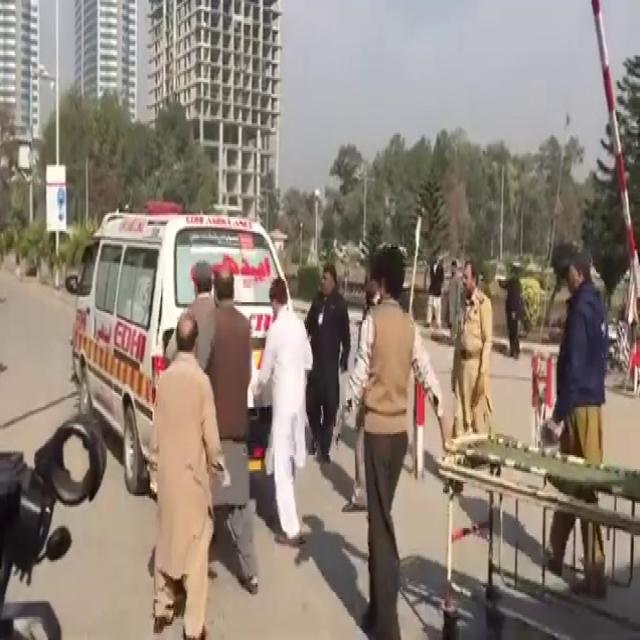ambulance: (63, 212, 310, 451)
